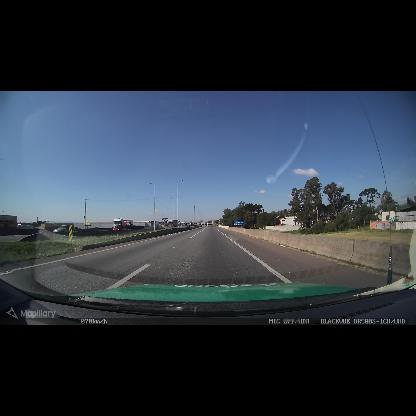O-MP: (68, 224, 73, 243)
